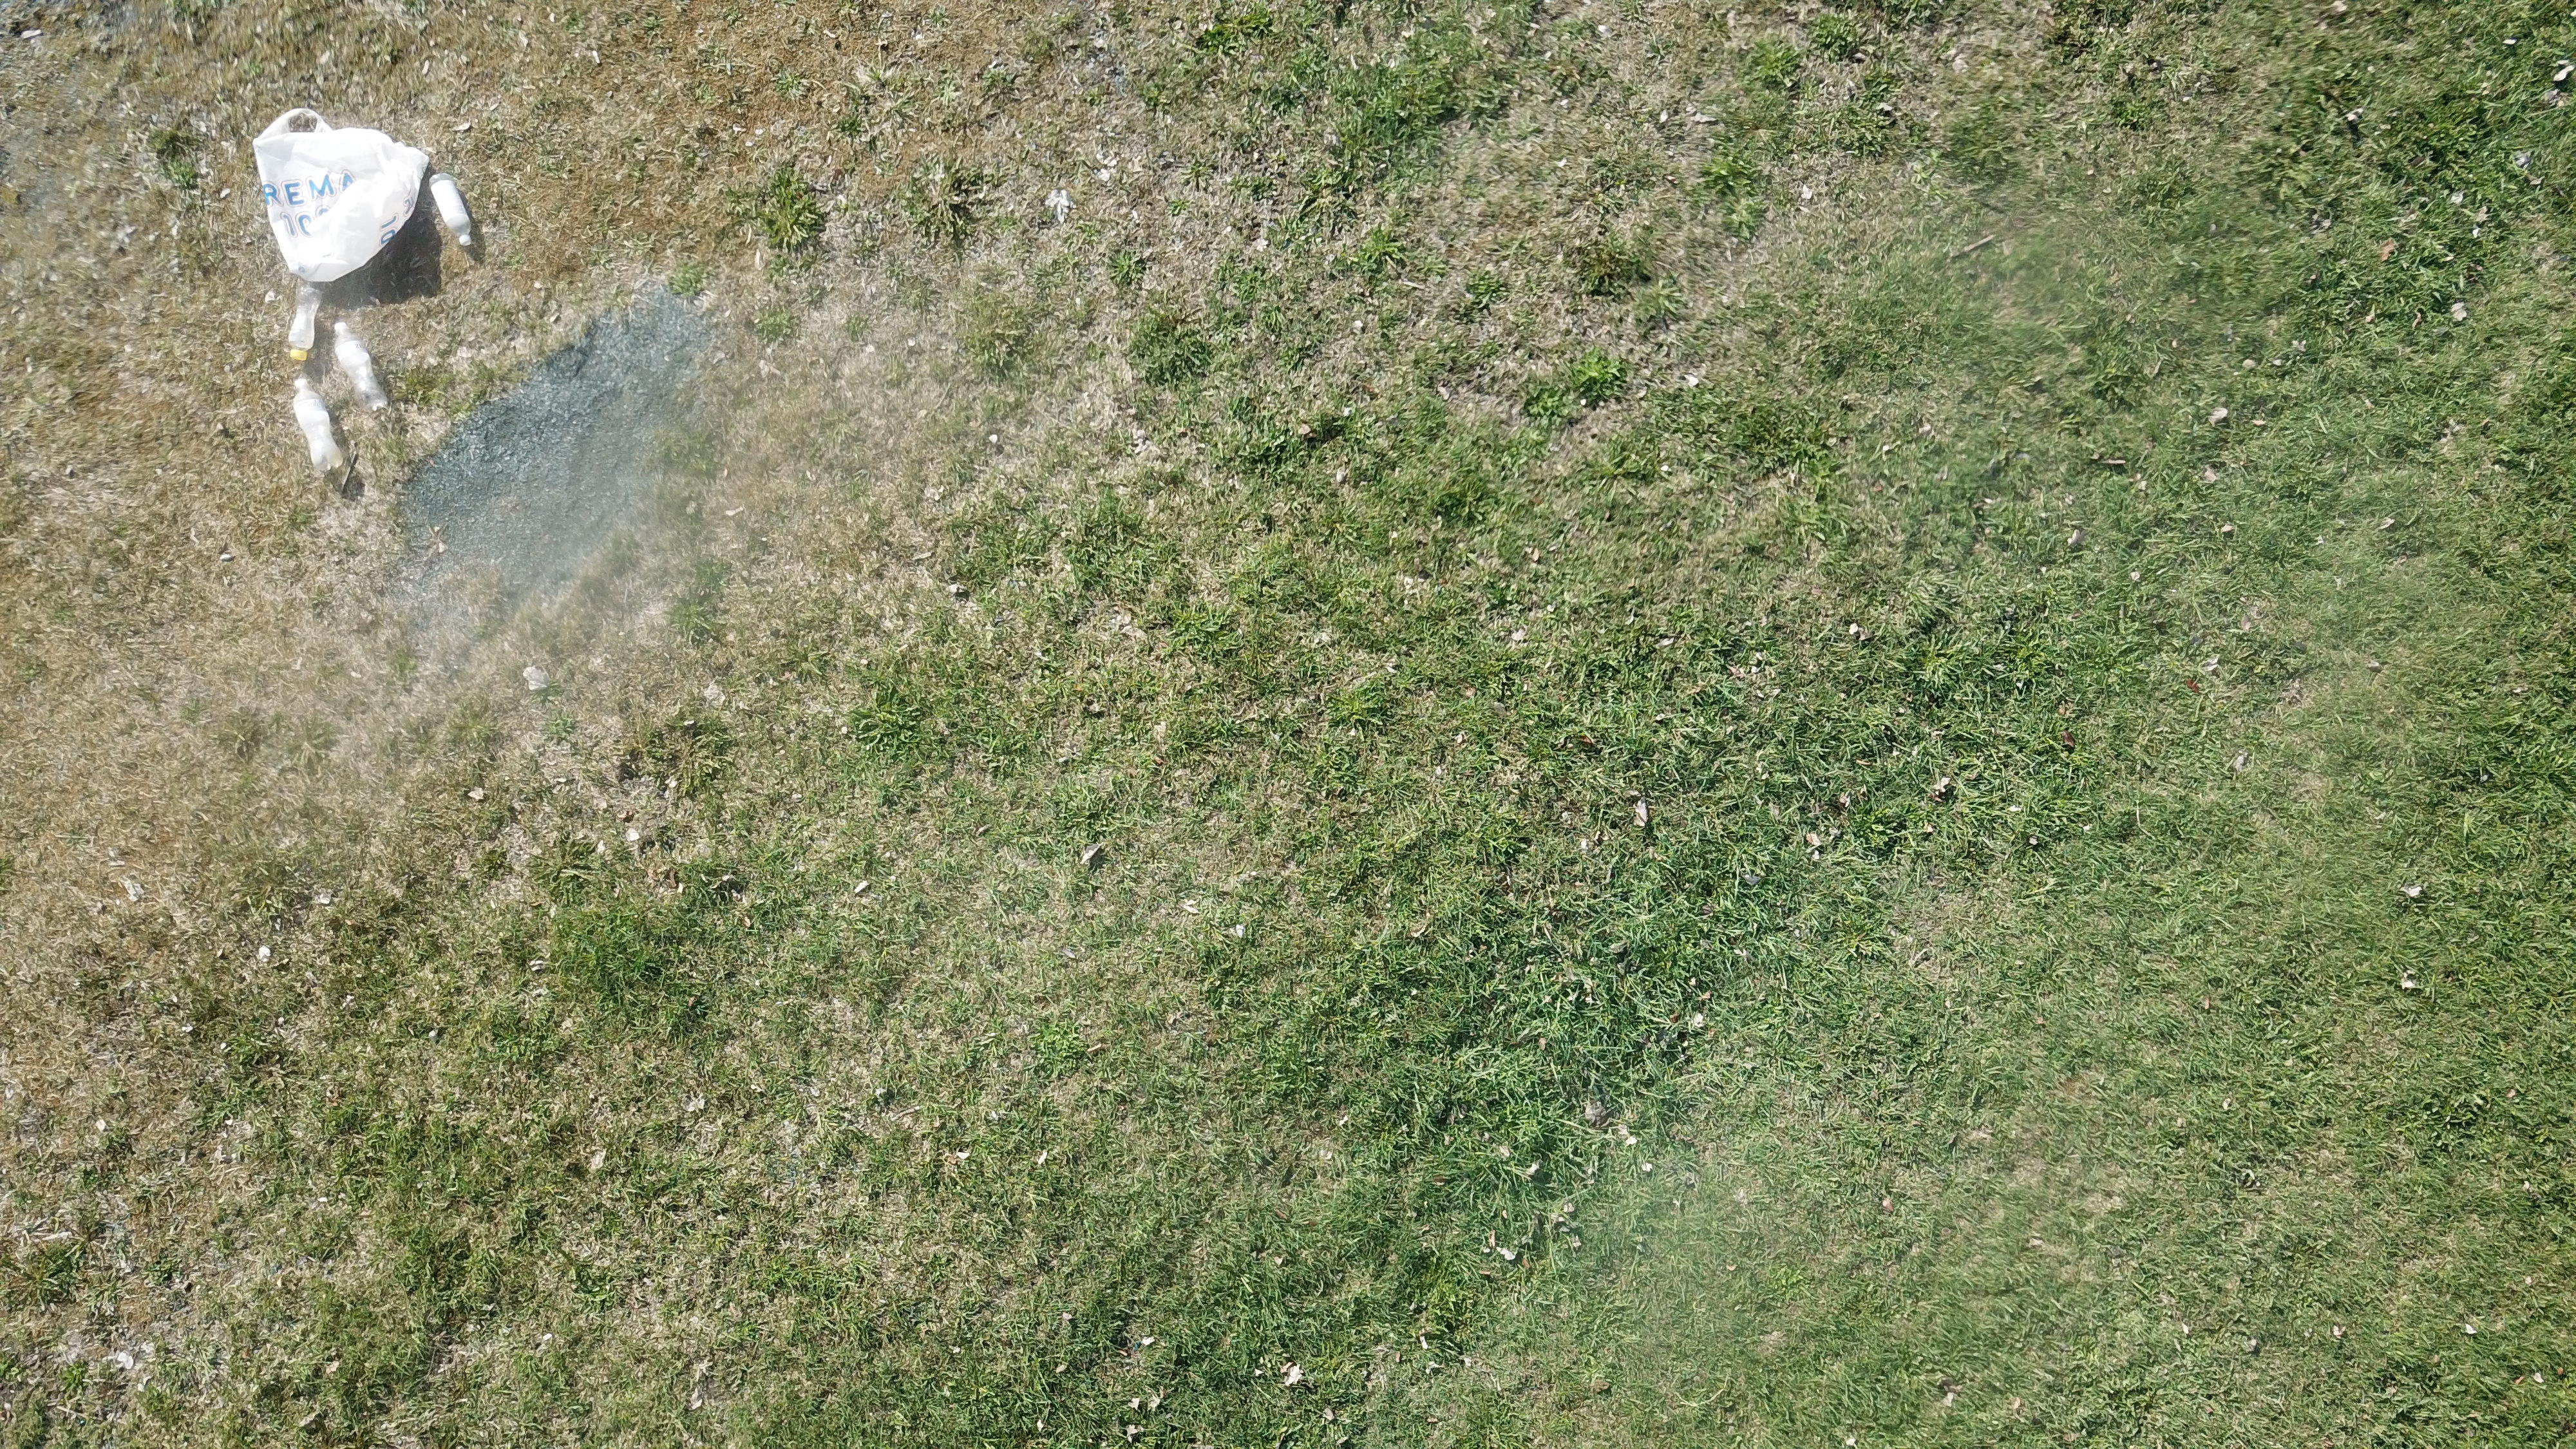Plastic: (255, 110, 433, 285)
PlasticBottle: (336, 322, 389, 414), (294, 380, 345, 474), (430, 166, 476, 258), (288, 278, 326, 364)
